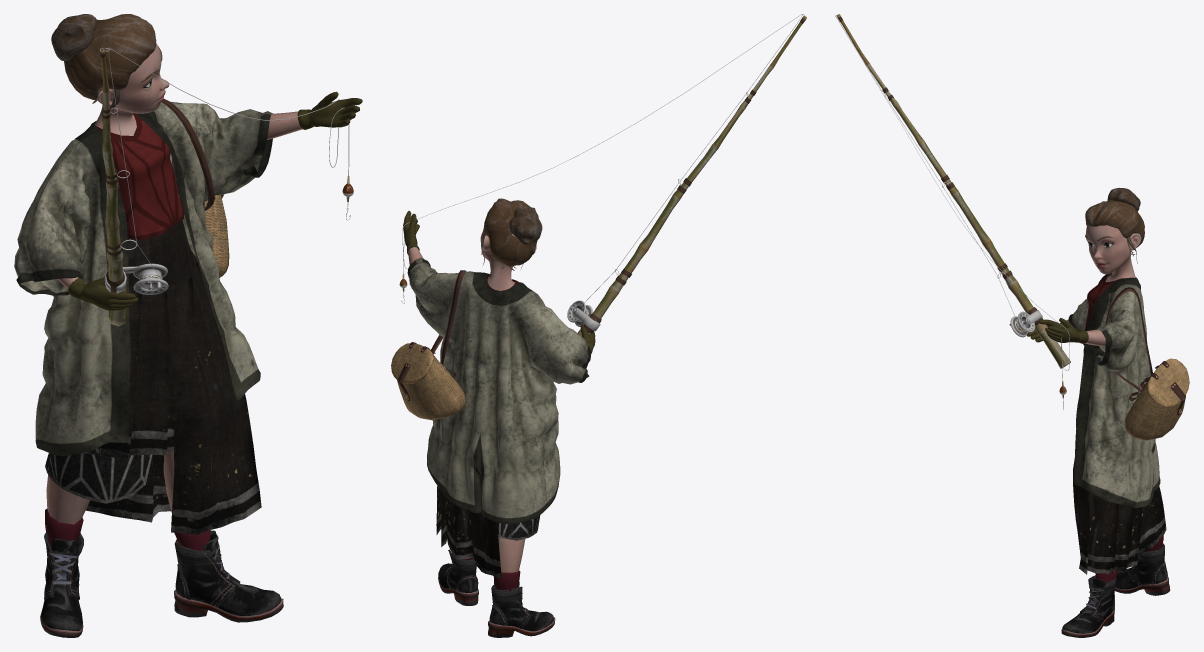
File: gone-fishing-bree08.glb
3 renders of one model, left to right at view 1: azimuth 30°, elevation 25°; view 2: azimuth 150°, elevation 25°; view 3: azimuth 270°, elevation 25°, orthographic. The views are drawn at different scales.
Visible parts, largest first — view 1: Body_high, Rod_high; view 2: Body_high, Rod_high; view 3: Body_high, Rod_high.
Part boxes in pixels (x1=…): Body_high: x1=14, y1=14, x2=362, y2=637; Rod_high: x1=99, y1=48, x2=353, y2=326; Body_high: x1=403, y1=198, x2=595, y2=637; Rod_high: x1=391, y1=14, x2=806, y2=420; Body_high: x1=1027, y1=187, x2=1170, y2=637; Rod_high: x1=835, y1=14, x2=1189, y2=440.
Size of the model in its own units: 1112 by 1968 by 1223.
2 materials, 2 textured.
